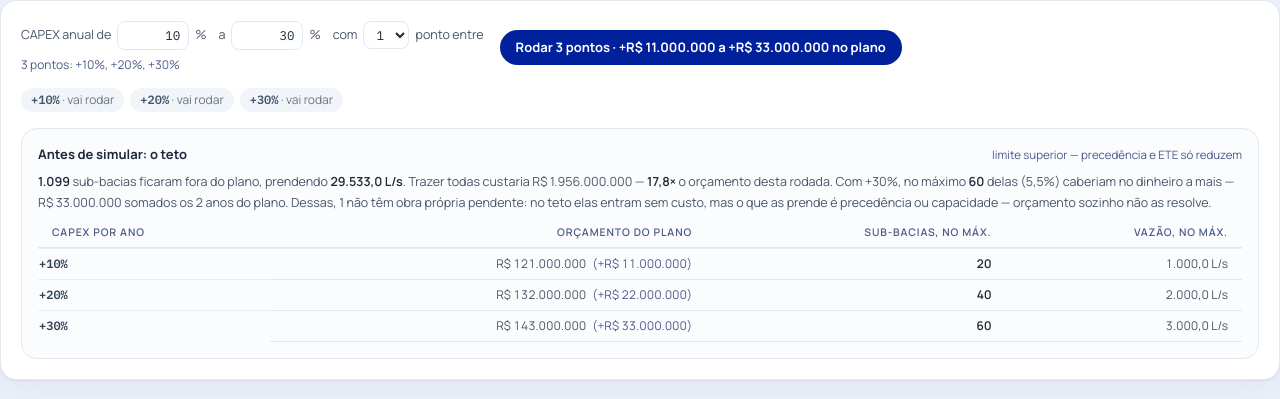
it: a varredura › mínimo igual ao máximo é um ponto só
Replace the text in the field named "Variação mínima" with "25": (153, 35) [117,21,189,50]
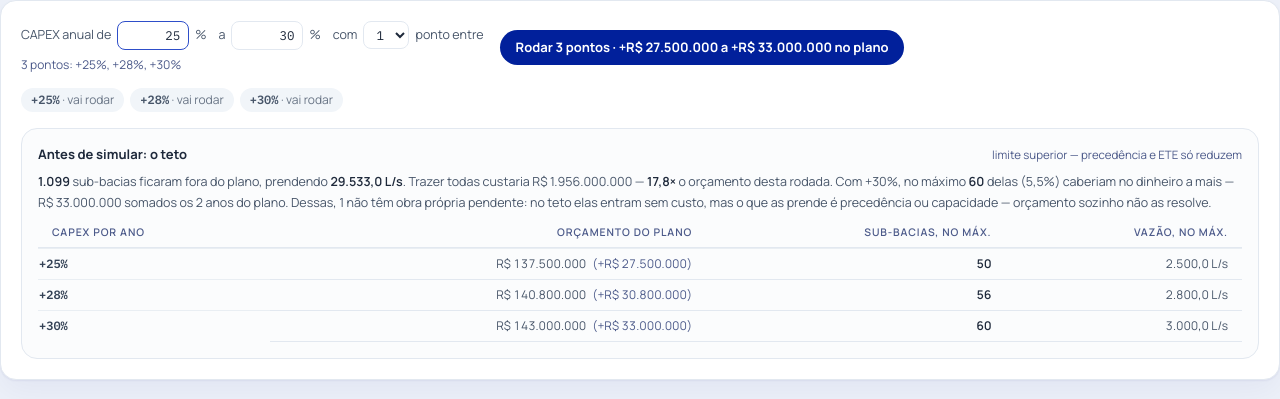
Replace the text in the field named "Variação máxima" with "25": (268, 35) [232,21,304,50]
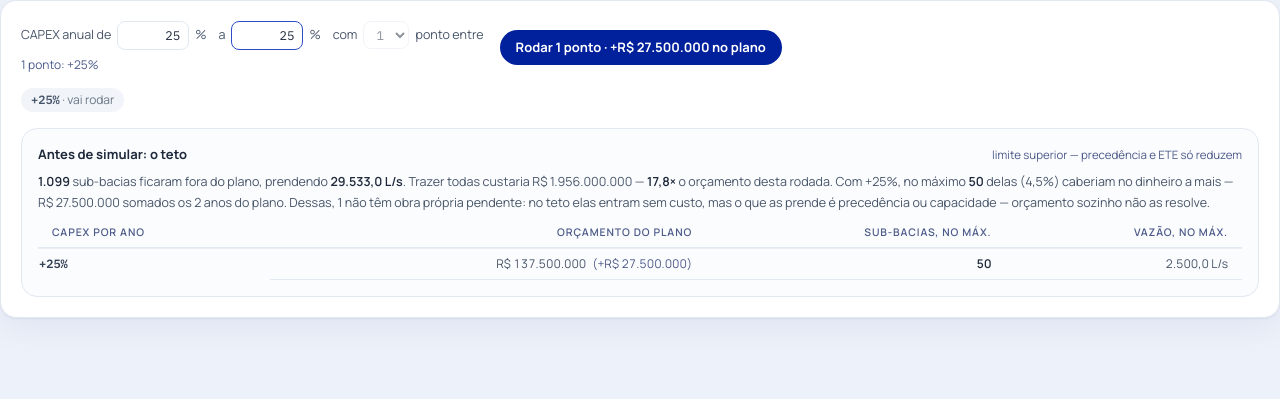
Expected: the text "1 ponto: +25%" is shown, [21,56,99,73]
Expected: the button "Rodar 1 ponto · +R$ 27.500.000 no plano" is shown, [500,30,782,65]
